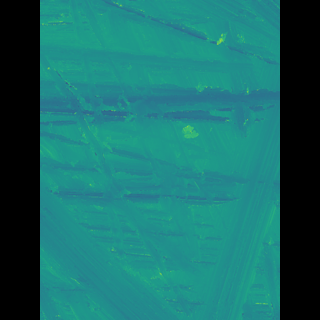Loch: (74, 4, 247, 314)
